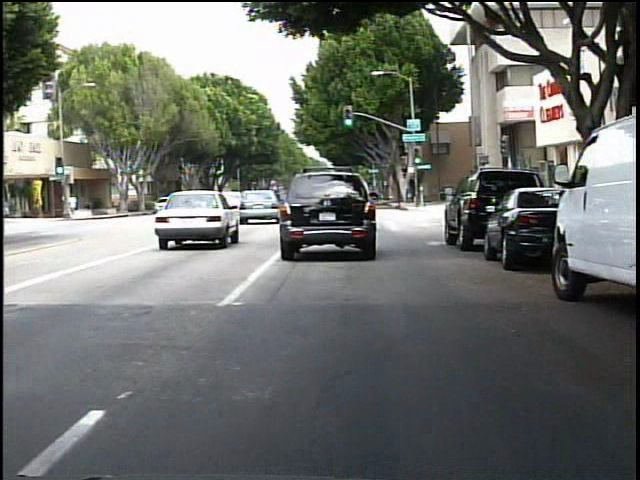person: (71, 192, 81, 219)
